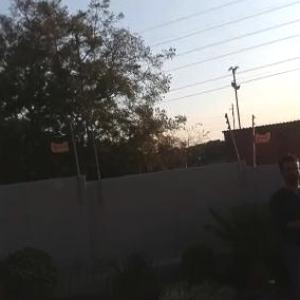follow: (264, 147, 300, 299)
